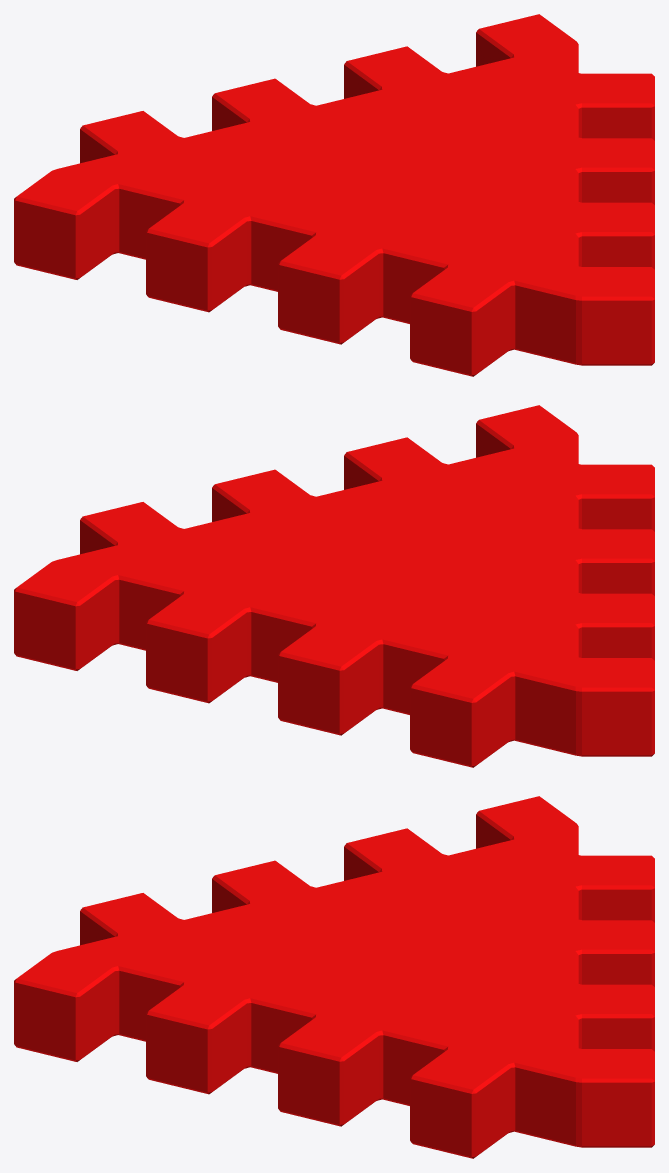
Rendered from RedTriangle.fbx.
3 renders of one model, top to bottom at view 1: azimuth 30°, elevation 25°; view 2: azimuth 150°, elevation 25°; view 3: azimuth 270°, elevation 25°, orthographic.
Visible parts, largest first — view 1: BlueTriangle; view 2: BlueTriangle; view 3: BlueTriangle.
Boxes of the visible parts, x1,y1,x2,y2 form: BlueTriangle: [14, 14, 654, 376]; BlueTriangle: [14, 405, 654, 767]; BlueTriangle: [14, 796, 654, 1158].
Bounding box in the file's own units: 4.59 × 0.4992 × 4.2.
